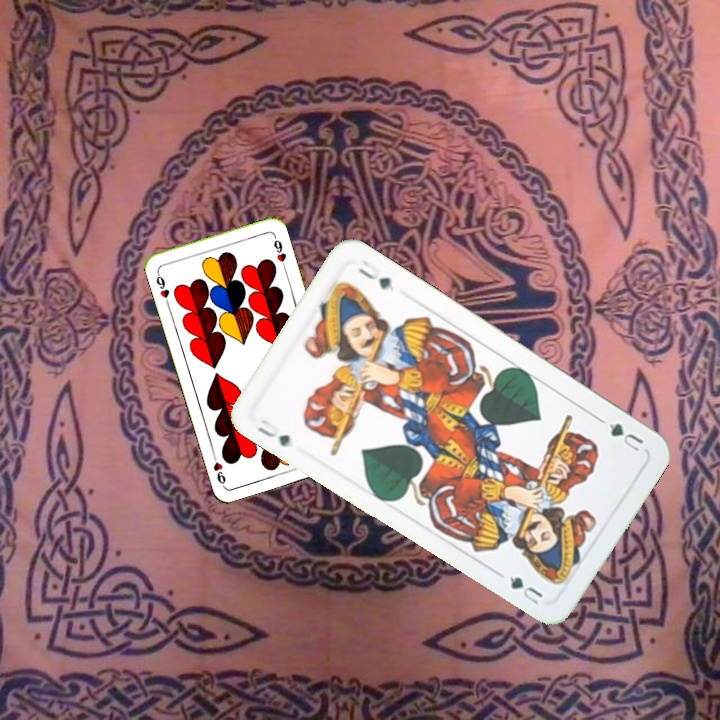GU: (604, 418, 646, 454), (253, 415, 293, 449)
H9: (152, 267, 172, 307)
